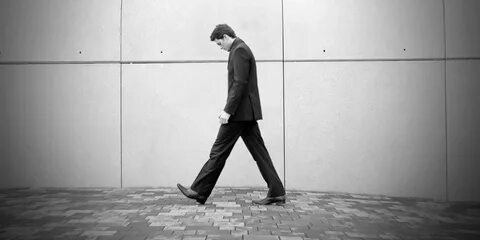awake: (184, 22, 286, 205)
